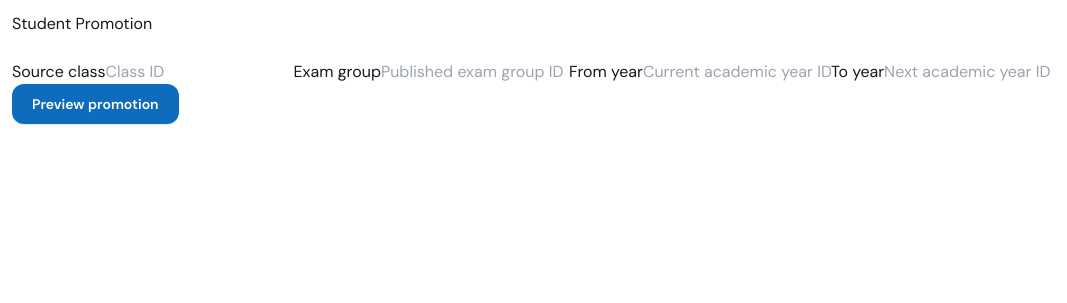
preview then confirm › the preview renders counts from the API, not computed client-side
Type "class-1" into the field labelled "Source class" at (200, 72), box [106,60,294,84]
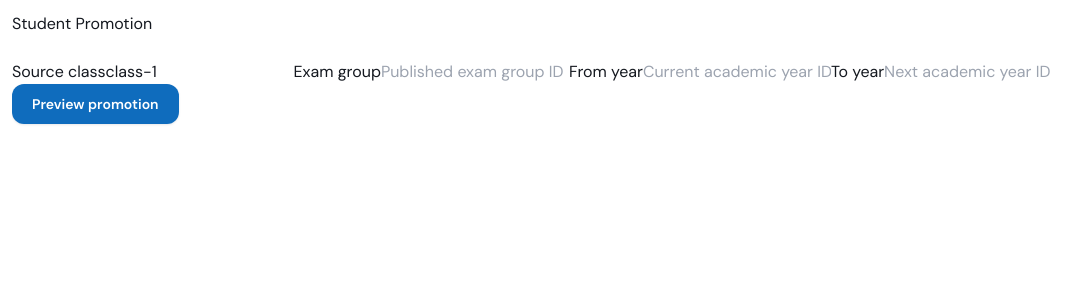
Type "group-1" into the field labelled "Exam group" at (475, 72), box [381,60,569,84]
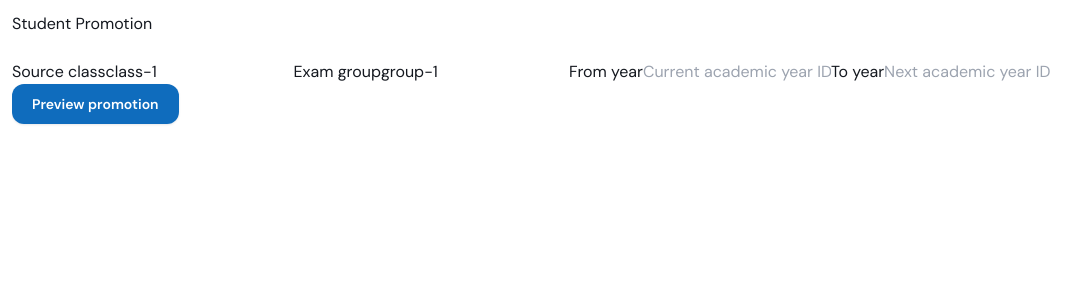
Type "year-26" into the field labelled "From year" at (737, 72), box [643,60,831,84]
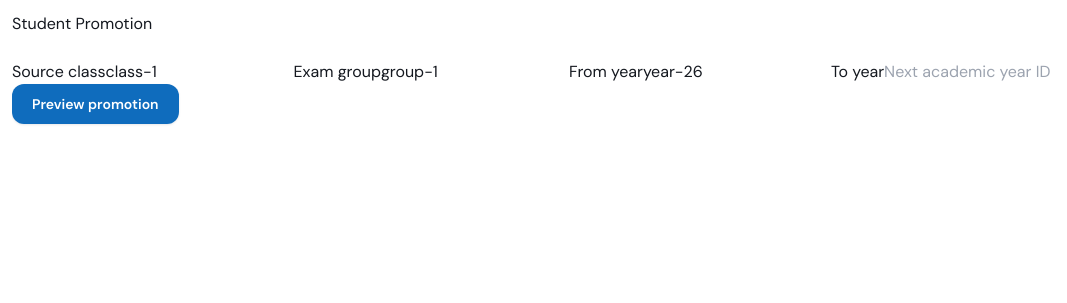
Click the button "Preview promotion" at (95, 104), box [12,84,179,124]
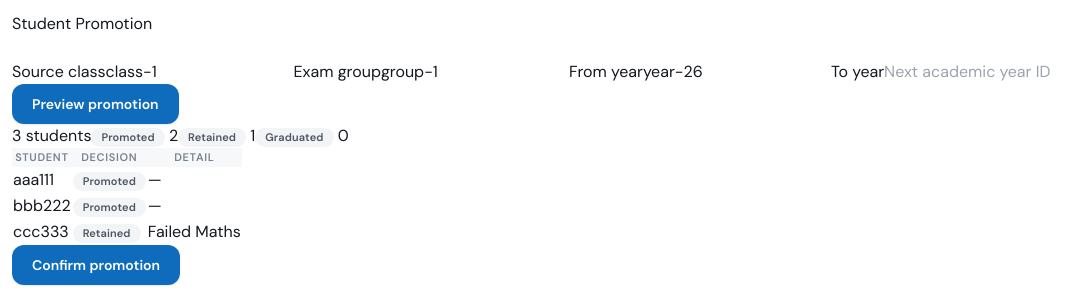
Expected: the text "3 students" is shown, [12,125,92,146]
Expected: the text "Failed Maths" is shown, [147,218,242,244]
